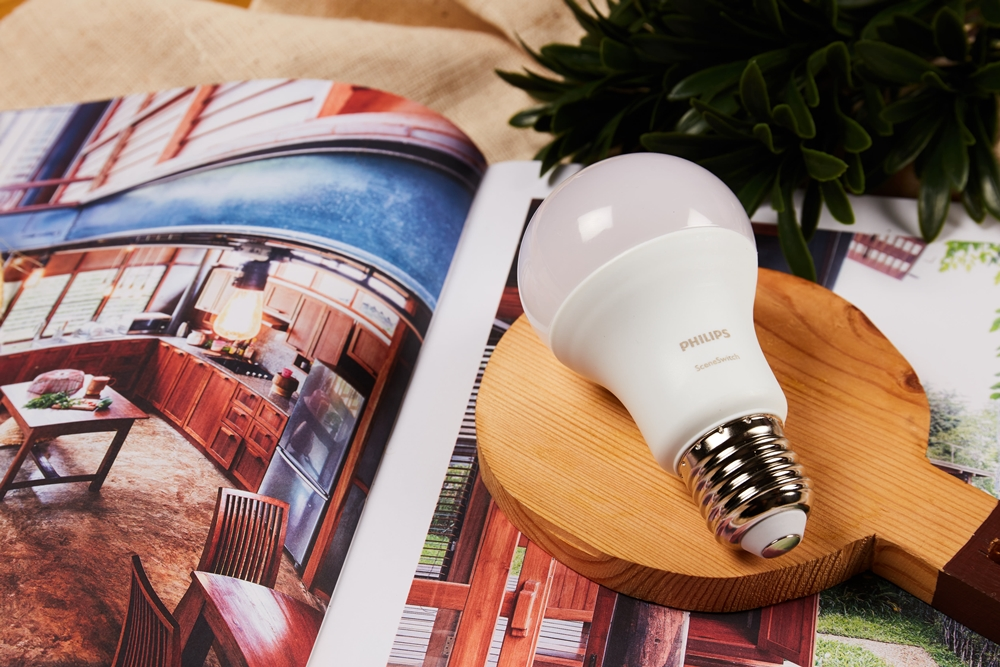Light_bulb: (517, 145, 819, 570)
